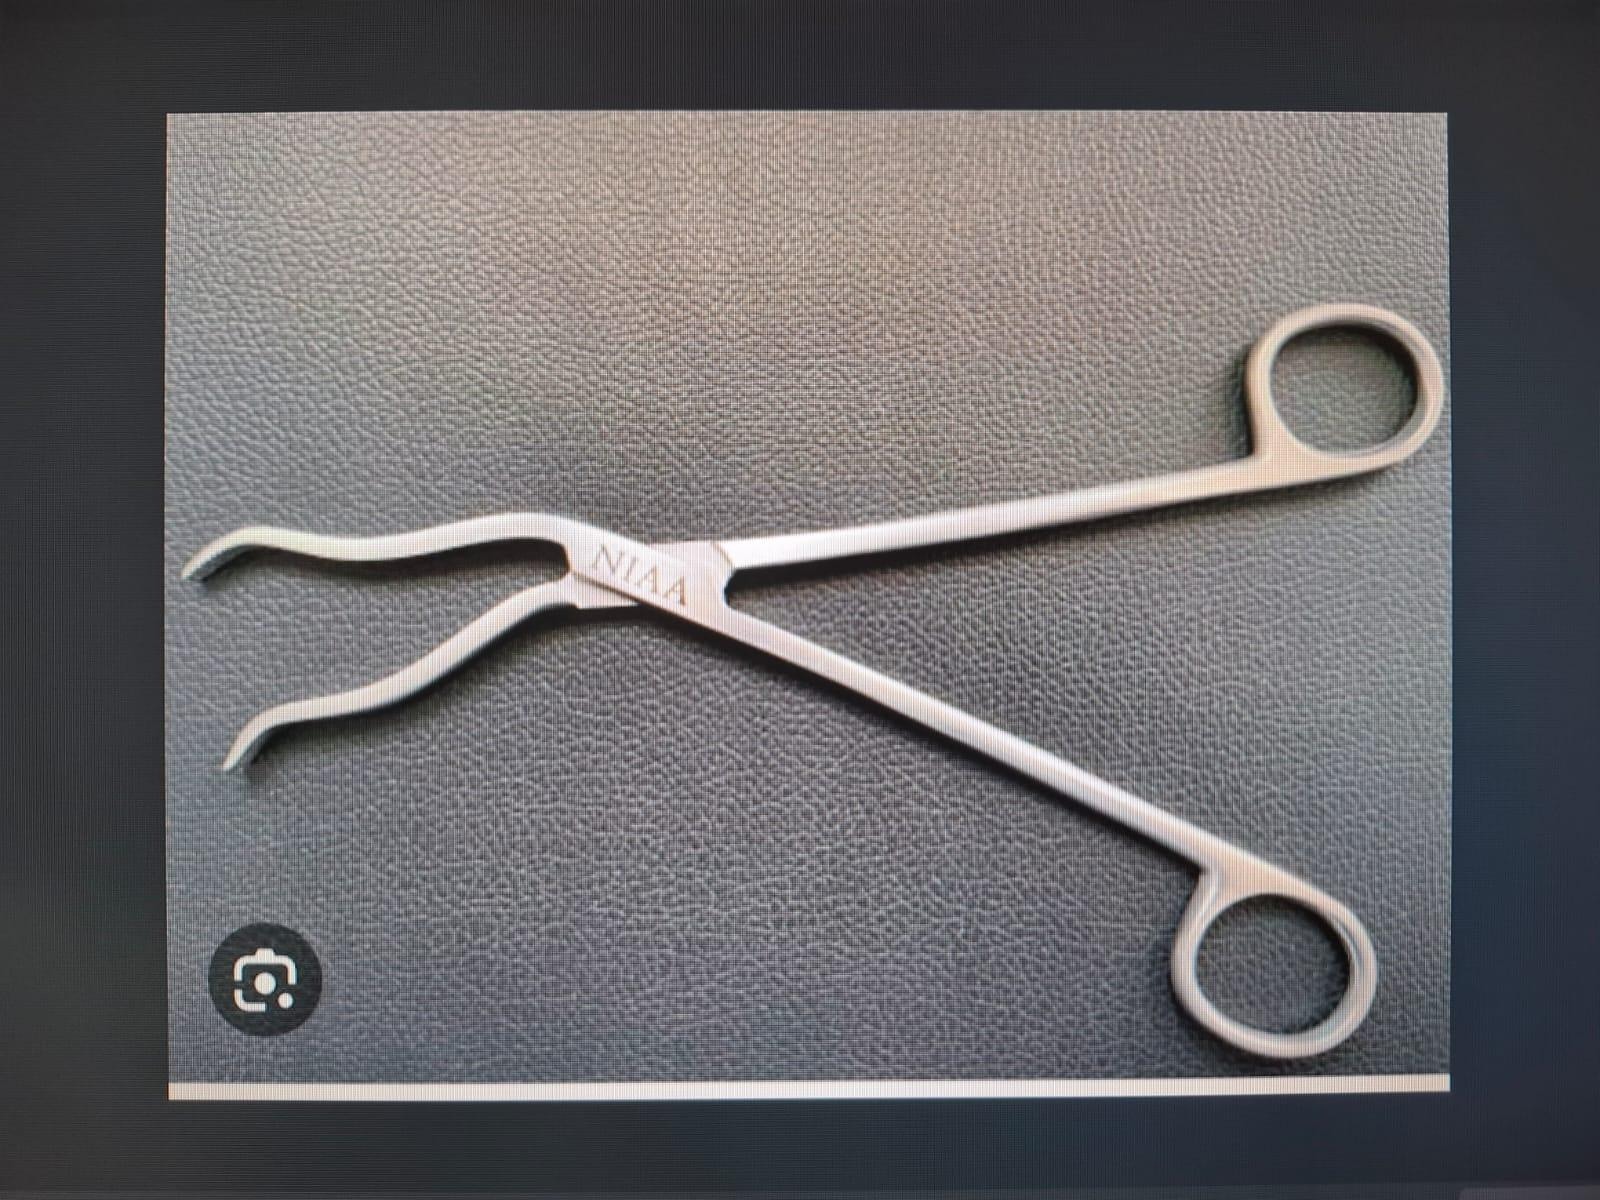Cheatle Forceps: (166, 300, 1453, 1080)
